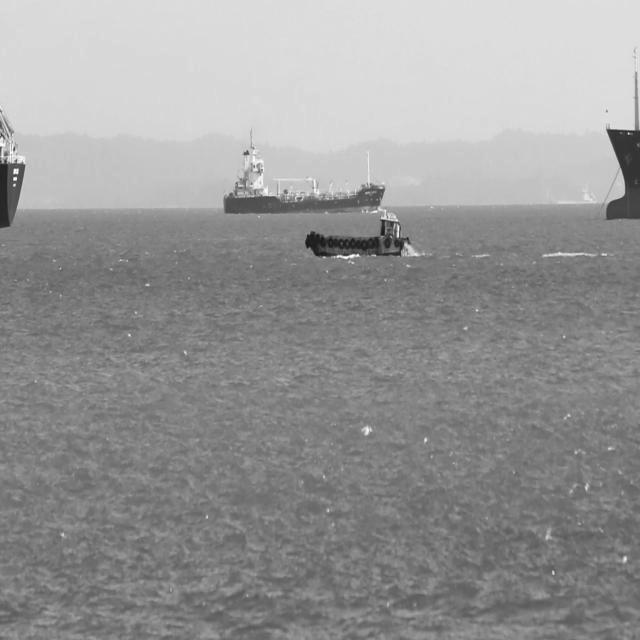ship: (223, 124, 386, 214), (304, 207, 412, 261), (606, 44, 639, 219), (0, 103, 25, 227)
